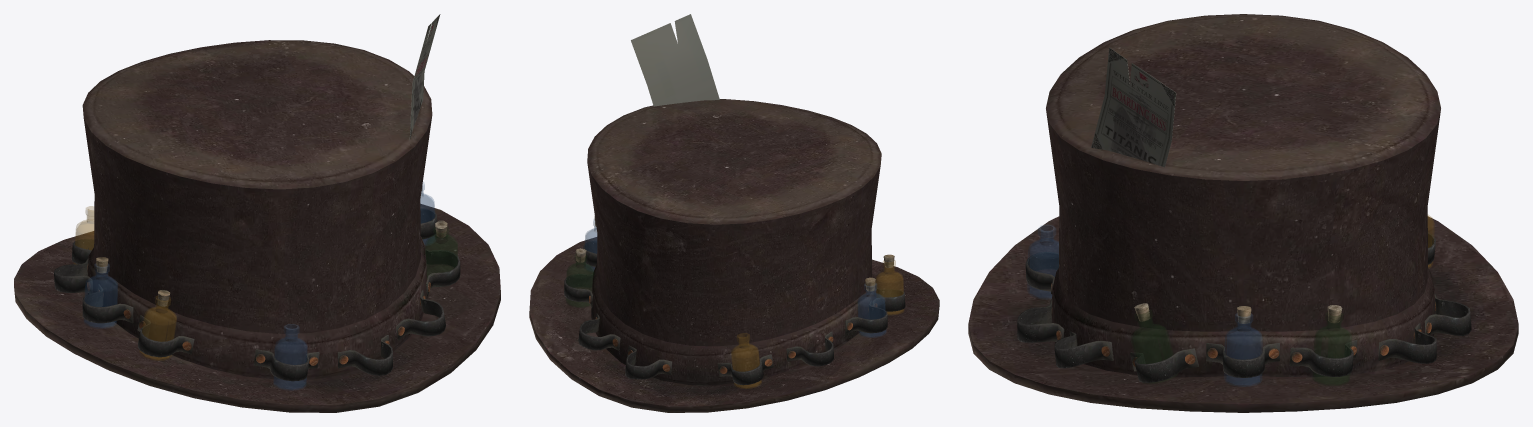
File: cow-boy-hat-compressed.glb
The picture shows the model from 3 angles, left to right: view 1: azimuth 30°, elevation 25°; view 2: azimuth 150°, elevation 25°; view 3: azimuth 270°, elevation 25°; orthographic projection. The views are drawn at different scales.
Visible parts, largest first — view 1: Object_3, Object_2; view 2: Object_3, Object_4, Object_2; view 3: Object_3, Object_2.
Boxes of the visible parts, x1,y1,x2,y2 form: Object_3: [14, 14, 500, 412]; Object_2: [74, 182, 457, 390]; Object_3: [529, 34, 939, 412]; Object_4: [631, 14, 719, 106]; Object_2: [566, 219, 903, 388]; Object_3: [968, 14, 1518, 412]; Object_2: [1027, 215, 1434, 386].
Size of the model in its own units: 8.08 by 5.62 by 8.08.
3 materials, 3 textured.
